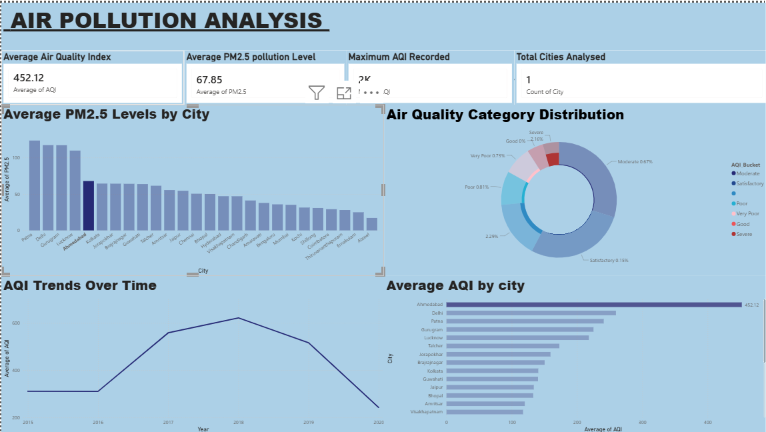

Layout of this report page (visuals, bound fields, positions):
{"tool":"powerbi","page":{"name":"Page 1","canvas":[1920,1080],"ordinal":0},"visuals":[{"type":"clusteredBarChart","title":"Average AQI by city","fields":{"Category":["city_day.City"],"Y":["Avg(city_day.AQI)"]},"box":[958.1,683.2,961,396.9],"z":0},{"type":"cardVisual","title":"Average Air Quality Index","fields":{"Data":["Avg(city_day.AQI)"]},"box":[0,119.1,456.4,136.1],"z":1000},{"type":"lineChart","title":"AQI Trends Over Time","fields":{"Category":["city_day.Date.Variation.Date Hierarchy.Year","city_day.Date.Variation.Date Hierarchy.Quarter","city_day.Date.Variation.Date Hierarchy.Month","city_day.Date.Variation.Date Hierarchy.Day"],"Y":["Avg(city_day.AQI)"]},"box":[0,683.2,961,396.9],"z":2000},{"type":"cardVisual","title":"Average PM2.5 pollution Level","fields":{"Data":["Avg(city_day.PM2.5)"]},"box":[456.4,119.1,405.4,136.1],"z":3000},{"type":"cardVisual","title":"Maximum AQI Recorded","fields":{"Data":["Max(city_day.AQI)"]},"box":[861.7,119.1,419.5,136.1],"z":4000},{"type":"cardVisual","title":"Total Cities Analysed","fields":{"Data":["Count(city_day.City)"]},"box":[1281.3,119.1,637.8,136.1],"z":5000},{"type":"donutChart","title":"Air Quality Category Distribution","fields":{"Category":["city_day.AQI_Bucket"],"Y":["CountNonNull(city_day.AQI_Bucket)"]},"box":[957.5,256,962.5,428.3],"z":6000},{"type":"clusteredColumnChart","title":"Average PM2.5 Levels by City","fields":{"Category":["city_day.City"],"Y":["Avg(city_day.PM2.5)"]},"box":[0,255.1,958.1,428],"z":7000},{"type":"textbox","box":[0,0,1919.1,119.1],"z":8000}]}

Visuals, with their boxes in screenshot pixels (x1, y1, x2, y2), scaled from the page's 1920x1080 canvas onto the 766x432 screenshot:
"Average AQI by city" clusteredBarChart: (382, 273, 765, 431)
"Average Air Quality Index" cardVisual: (0, 48, 182, 102)
"AQI Trends Over Time" lineChart: (0, 273, 383, 431)
"Average PM2.5 pollution Level" cardVisual: (182, 48, 344, 102)
"Maximum AQI Recorded" cardVisual: (344, 48, 511, 102)
"Total Cities Analysed" cardVisual: (511, 48, 765, 102)
"Air Quality Category Distribution" donutChart: (382, 102, 765, 274)
"Average PM2.5 Levels by City" clusteredColumnChart: (0, 102, 382, 273)
textbox: (0, 0, 765, 48)
